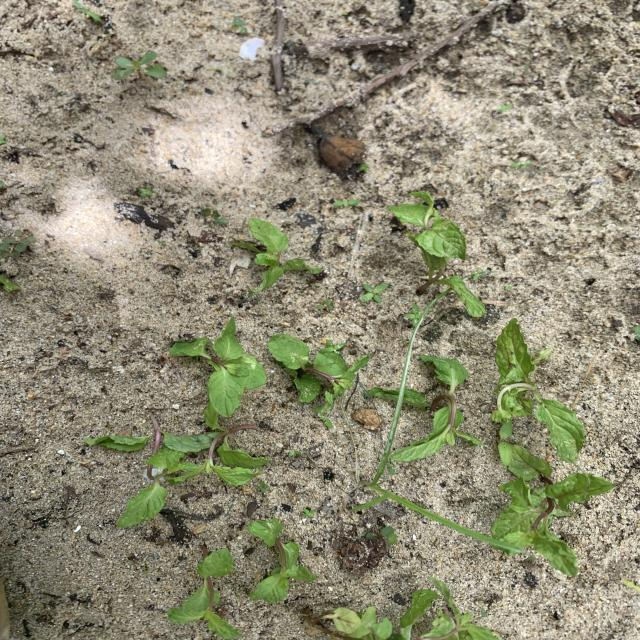crop: (494, 444, 613, 574), (84, 417, 217, 527), (495, 320, 583, 463), (386, 192, 484, 315), (325, 577, 499, 639), (170, 316, 265, 416), (392, 356, 482, 460), (269, 334, 366, 418), (168, 411, 269, 486), (167, 549, 241, 638), (230, 219, 320, 290), (248, 517, 315, 600)
weed: (353, 320, 512, 553), (114, 52, 166, 83), (0, 231, 35, 257), (365, 527, 396, 546), (74, 1, 102, 22), (360, 284, 386, 301), (202, 209, 227, 223), (405, 305, 421, 324), (231, 18, 247, 32), (622, 579, 639, 592), (334, 199, 358, 207), (511, 159, 531, 168), (317, 299, 332, 310), (470, 269, 484, 279), (303, 508, 314, 517), (497, 104, 511, 111), (139, 187, 151, 195), (258, 482, 267, 491), (289, 451, 299, 455)
